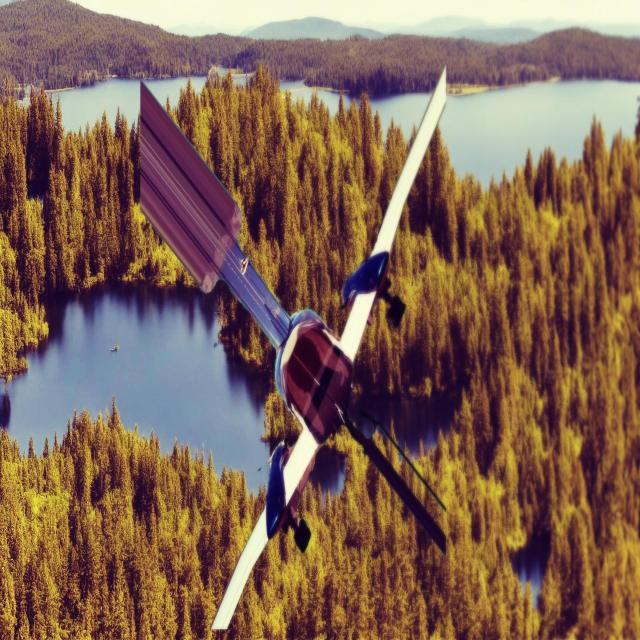airplane: (138, 65, 450, 632)
